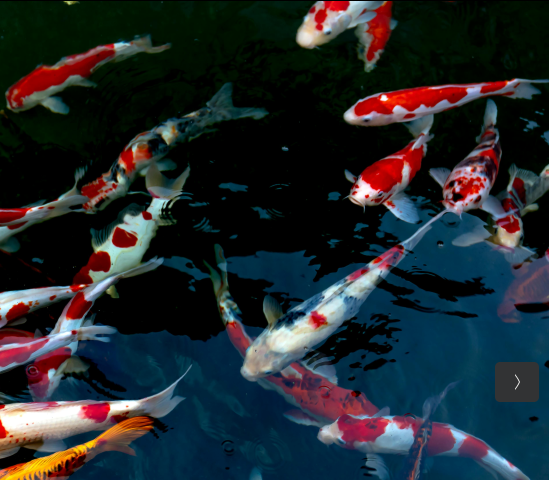fishLarge: (239, 208, 451, 382), (202, 242, 383, 427), (79, 80, 270, 217), (25, 251, 167, 401), (316, 398, 543, 480), (1, 366, 194, 458), (70, 162, 193, 300), (341, 76, 549, 137), (0, 413, 172, 480), (1, 253, 140, 331), (453, 162, 546, 265), (429, 99, 506, 222), (344, 125, 434, 224), (6, 51, 130, 116), (1, 321, 117, 371), (405, 380, 460, 478), (1, 188, 89, 233)
